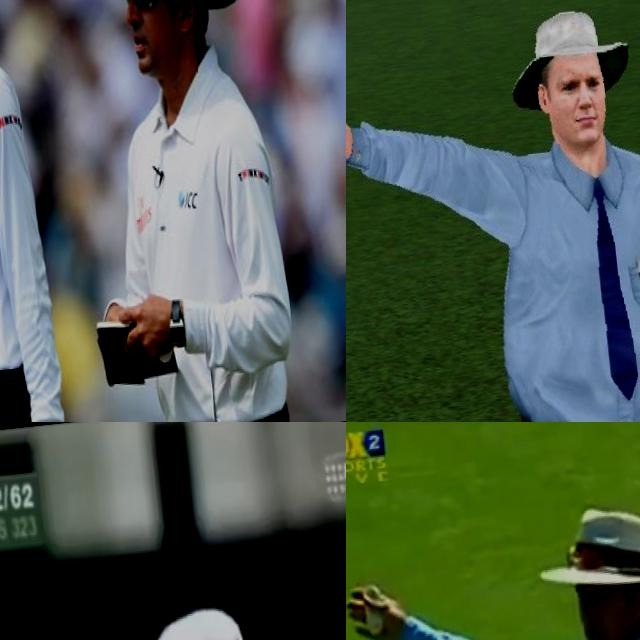No_Action: (46, 0, 309, 422), (0, 0, 79, 422), (26, 578, 346, 640)
No_Ball: (346, 0, 640, 422)
Wide: (346, 474, 640, 640)
